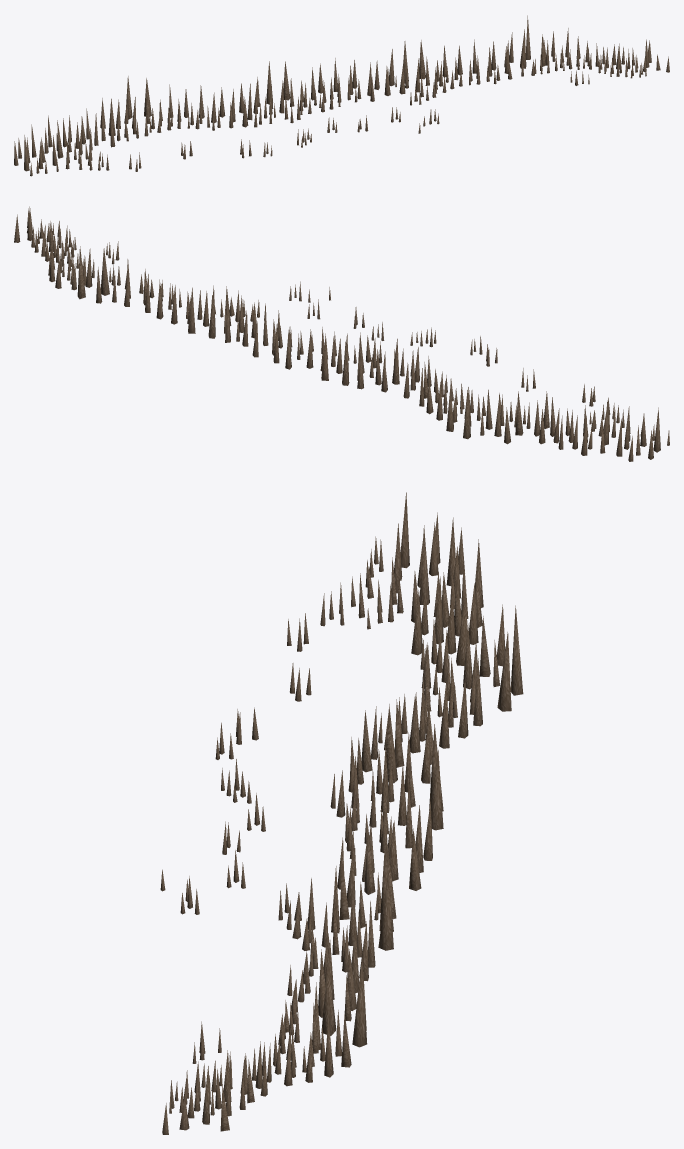
File: area_11_8.fbx
The picture shows the model from 3 angles, top to bottom: view 1: azimuth 30°, elevation 25°; view 2: azimuth 150°, elevation 25°; view 3: azimuth 270°, elevation 25°; orthographic projection. The views are drawn at different scales.
Parts seen in each view (by area): view 1: area_11_8; view 2: area_11_8; view 3: area_11_8.
Boxes of the visible parts, left/top/right/bottom form: area_11_8: left=14, top=15, right=669, bottom=176; area_11_8: left=14, top=206, right=669, bottom=461; area_11_8: left=160, top=492, right=523, bottom=1134.
Size of the model in its own units: 249 by 17.94 by 66.6.
